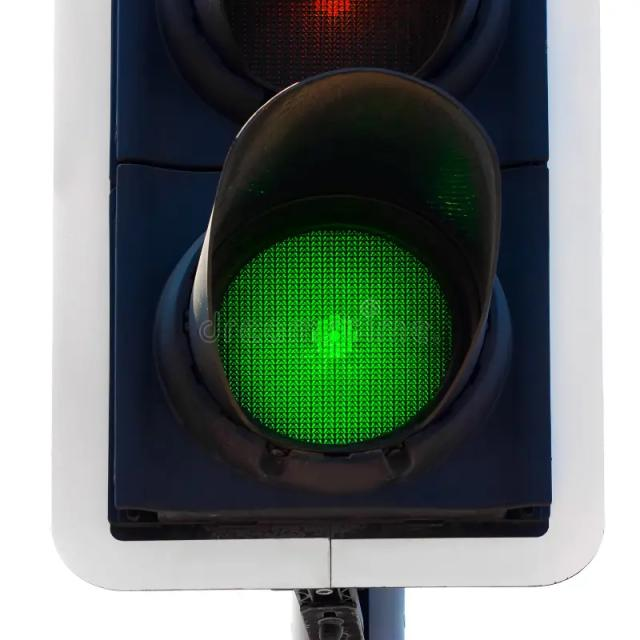green: (175, 119, 488, 459)
